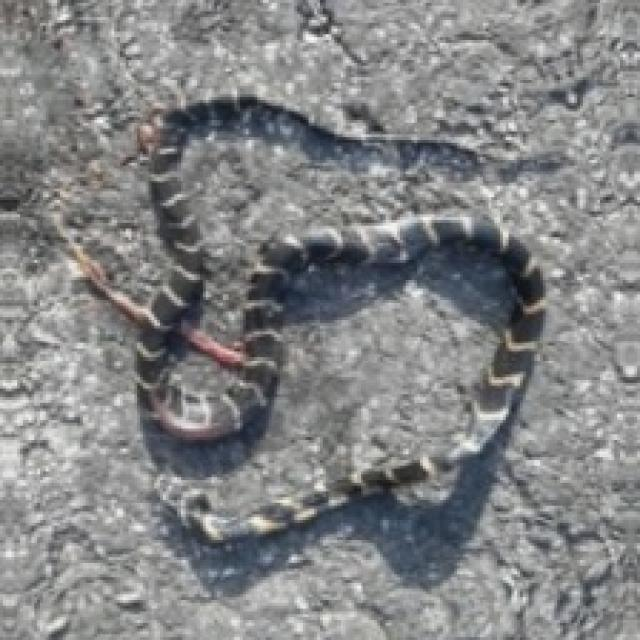king cobra: (57, 97, 543, 546), (269, 280, 500, 426)
